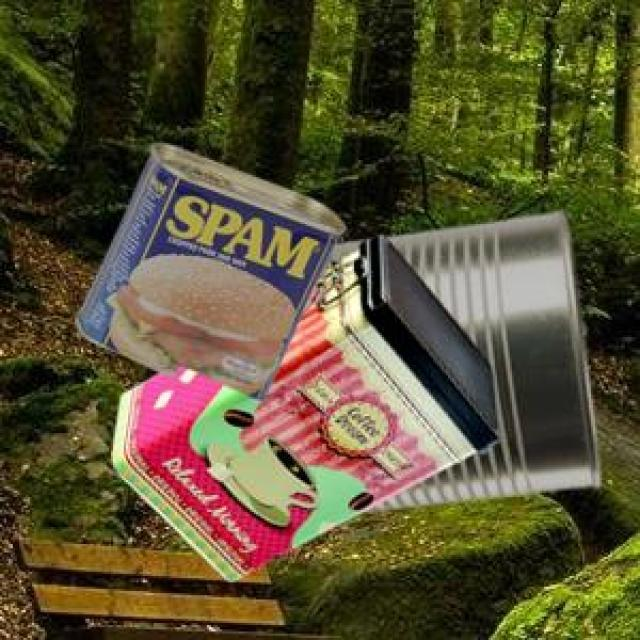Can: (110, 231, 498, 579), (323, 210, 596, 509), (71, 140, 342, 398)
